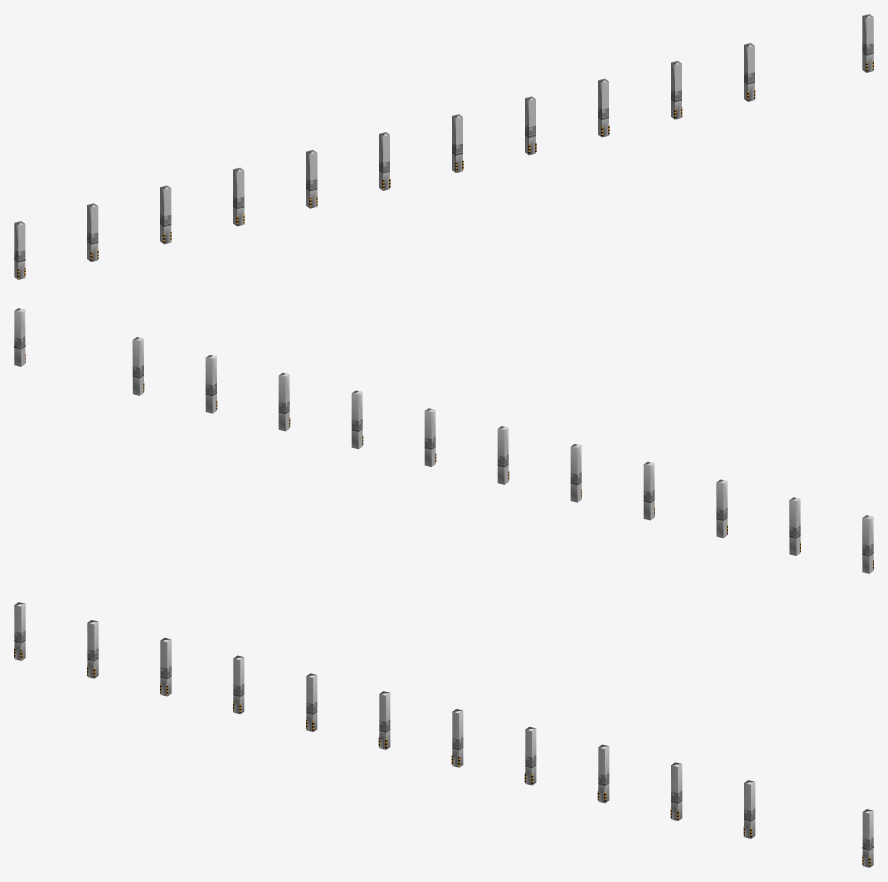
The model's file is WPLPillar04.fbx.
The picture shows the model from 3 angles, top to bottom: view 1: azimuth 30°, elevation 25°; view 2: azimuth 150°, elevation 25°; view 3: azimuth 330°, elevation 25°; orthographic projection.
Parts seen in each view (by area): view 1: Pillar 04.Shape; view 2: Pillar 04.Shape; view 3: Pillar 04.Shape.
Part boxes in pixels (bbox=[...]): Pillar 04.Shape: bbox=[14, 14, 873, 279]; Pillar 04.Shape: bbox=[14, 308, 873, 573]; Pillar 04.Shape: bbox=[14, 602, 873, 867].
Bounding box in the file's own units: 10540 × 636 × 93.13.
4 materials, 3 textured.
